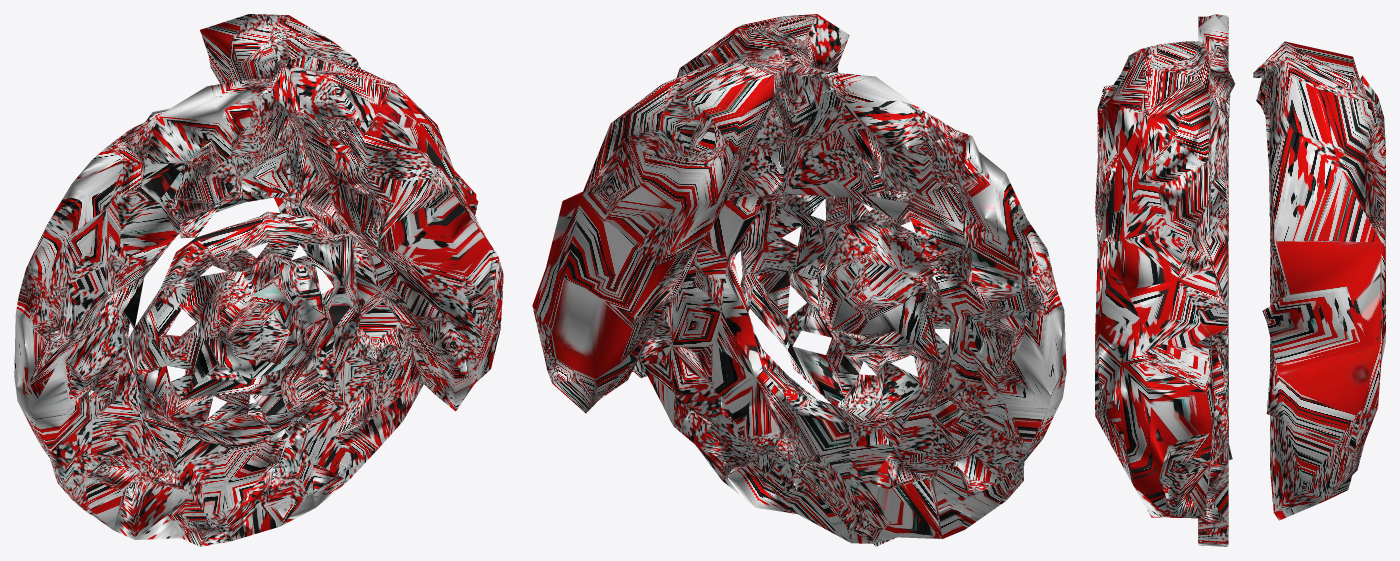
The model's file is rem-far.glb.
The picture shows the model from 3 angles, left to right: view 1: azimuth 30°, elevation 25°; view 2: azimuth 150°, elevation 25°; view 3: azimuth 270°, elevation 25°; orthographic projection. The views are drawn at different scales.
Size of the model in its own units: 1.89 by 1.87 by 0.9788.
Materials: 1 (1 with a texture image).
